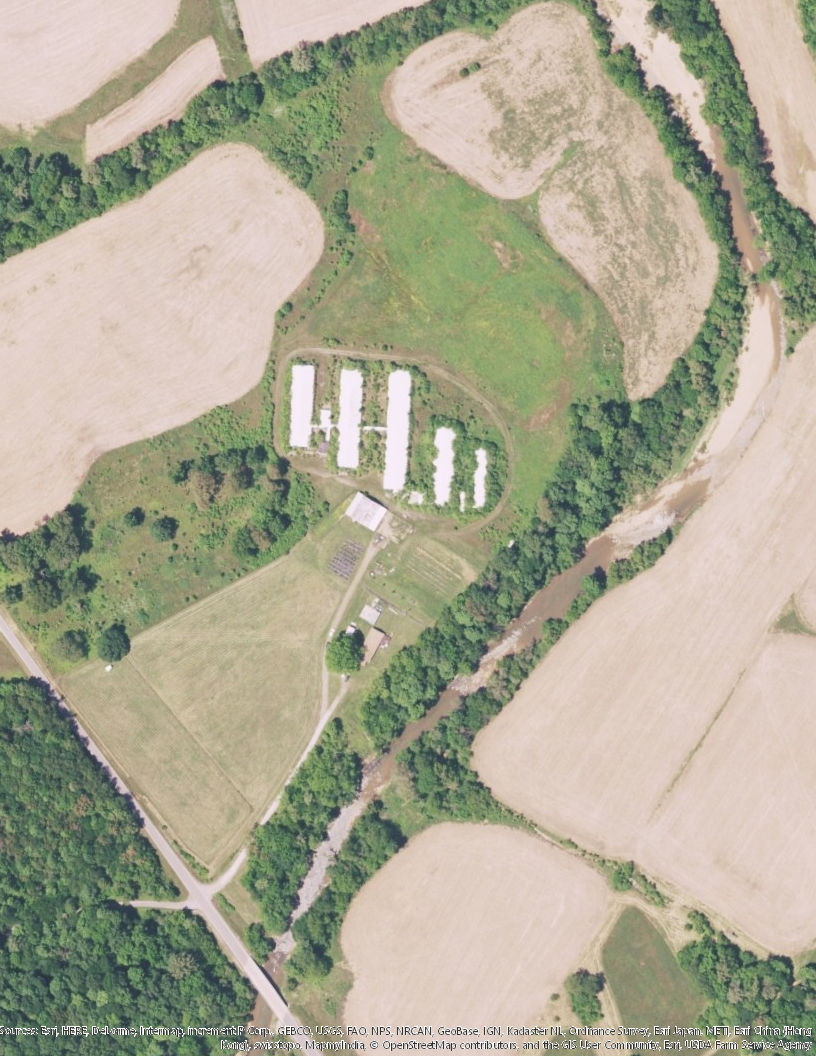cafo: (381, 368, 411, 491), (338, 368, 362, 471), (432, 423, 459, 510), (288, 364, 315, 450), (346, 490, 388, 533), (474, 448, 488, 511)
